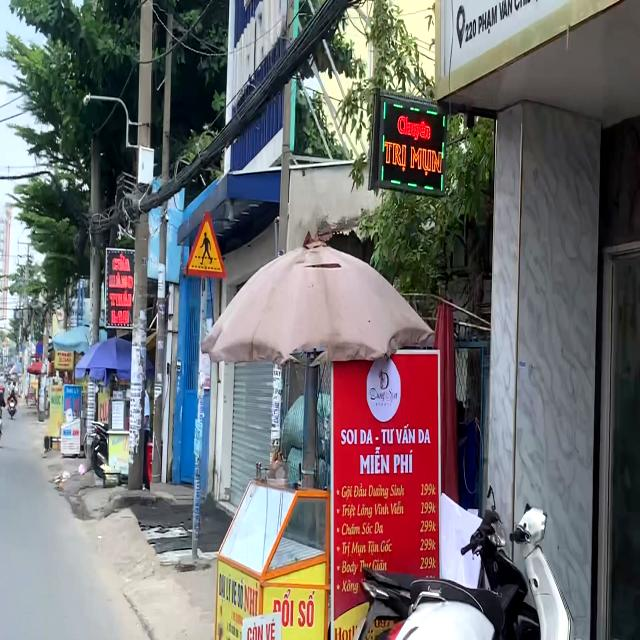W.224: (183, 208, 228, 282)
